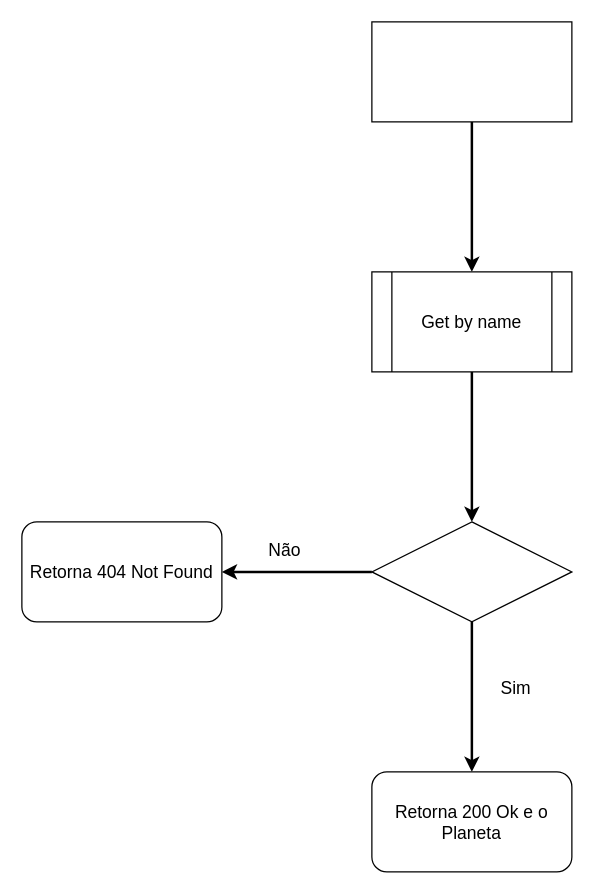
The diagram is 594 pixels wide and 894 high, and some of its shapes have lost their labels. Each missing label, with the box of its shape:
Nome existe?: (371, 521, 572, 622)
Planeta: (371, 21, 572, 122)
